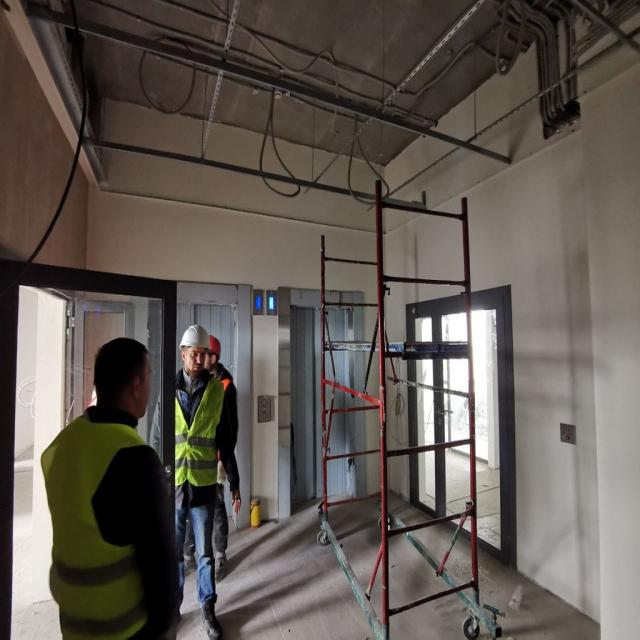Helmet: (179, 325, 211, 376), (211, 337, 225, 369)
NoHelmet: (93, 338, 157, 420)
